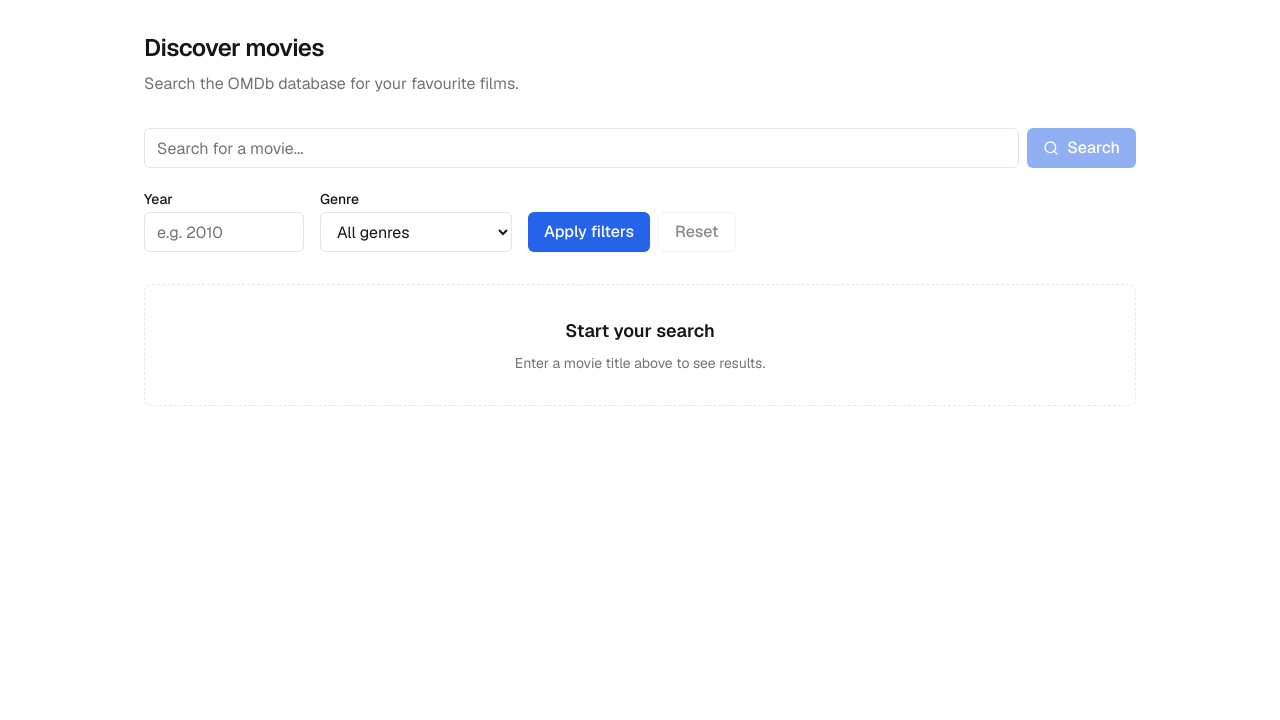
Test case: HomePage › performs a search and displays results
Type "Inception" into the search field with placeholder "Search for a movie..." at (582, 148), box [144,128,1019,168]
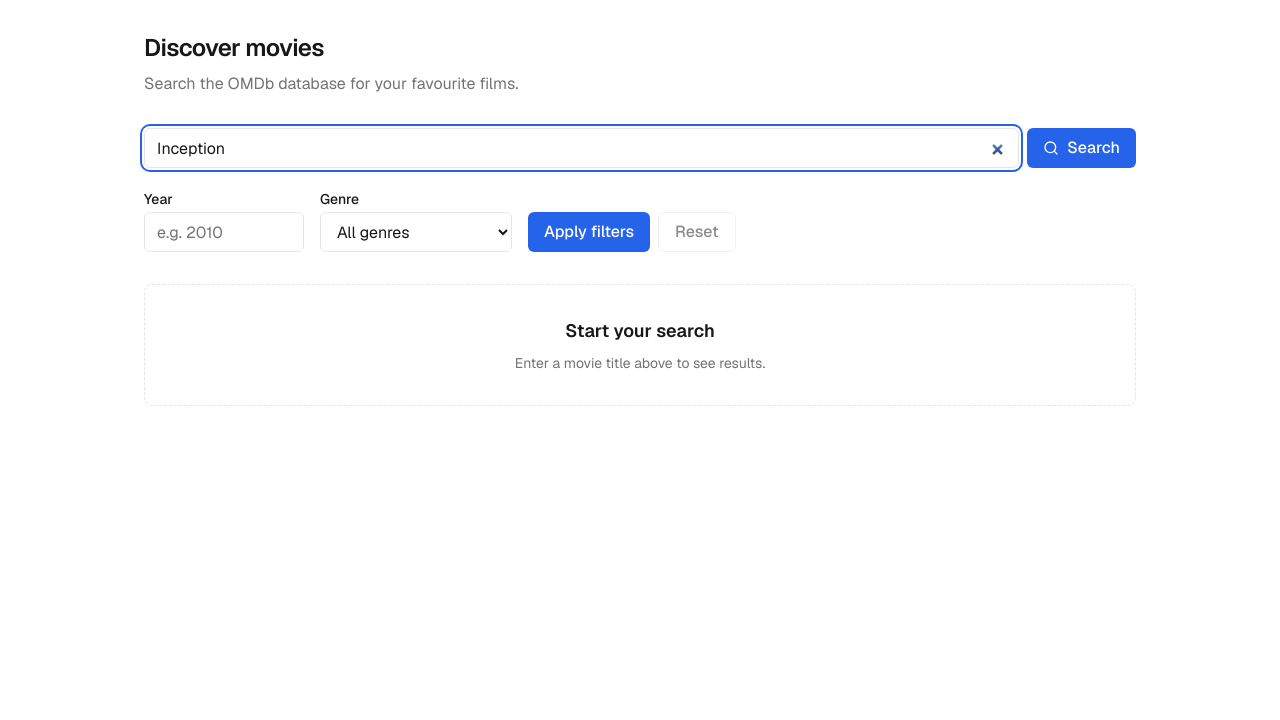
Click the button "Search" at (1082, 148), box [1027,128,1136,168]
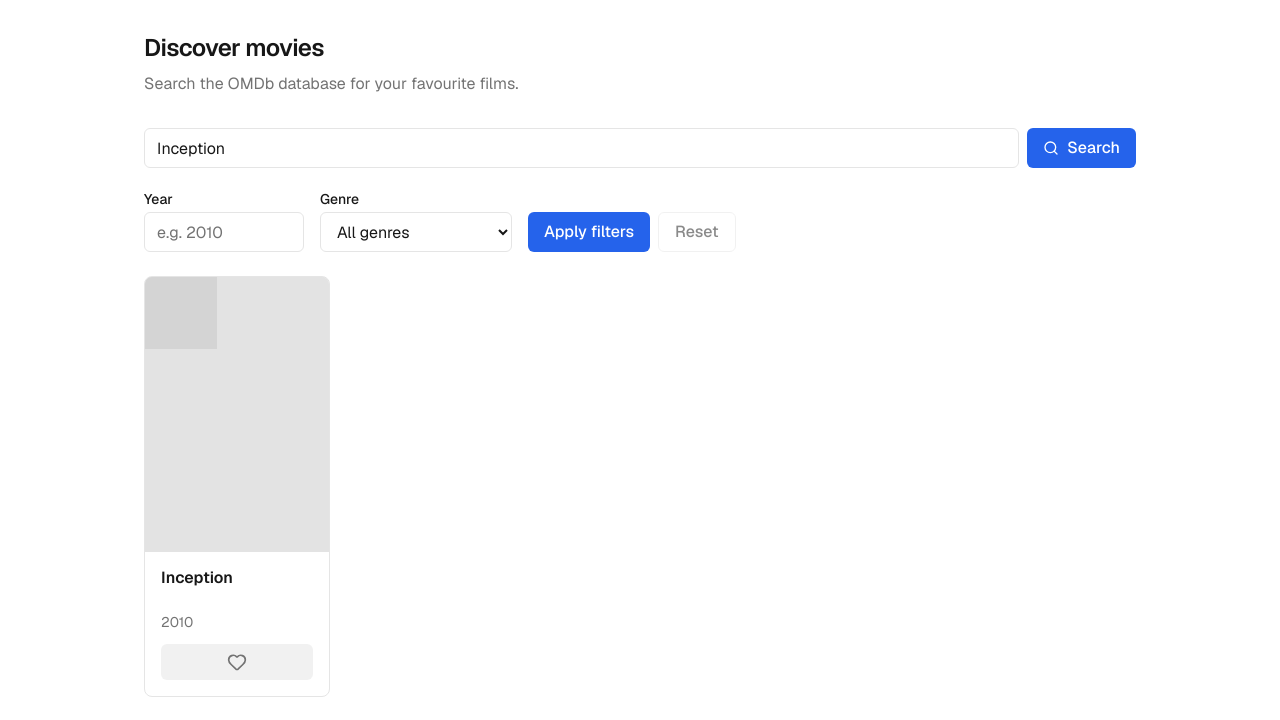
Check: the link "Inception" is shown, box [161,568,233,588]
Check: the text "2010" is shown, box [161,613,193,631]
